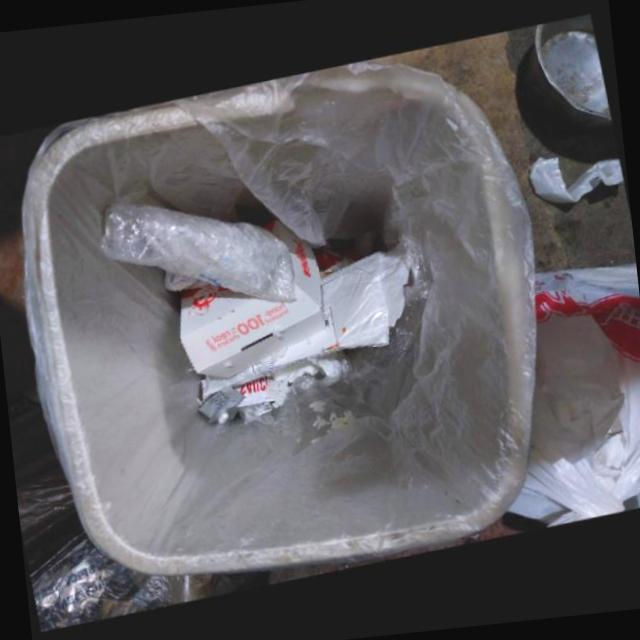carton: (181, 216, 325, 375)
giay: (271, 349, 344, 384), (161, 267, 212, 287)
goi_nhua_nho: (235, 370, 274, 404)
tui_ni_long: (202, 243, 410, 396), (102, 200, 298, 300)
